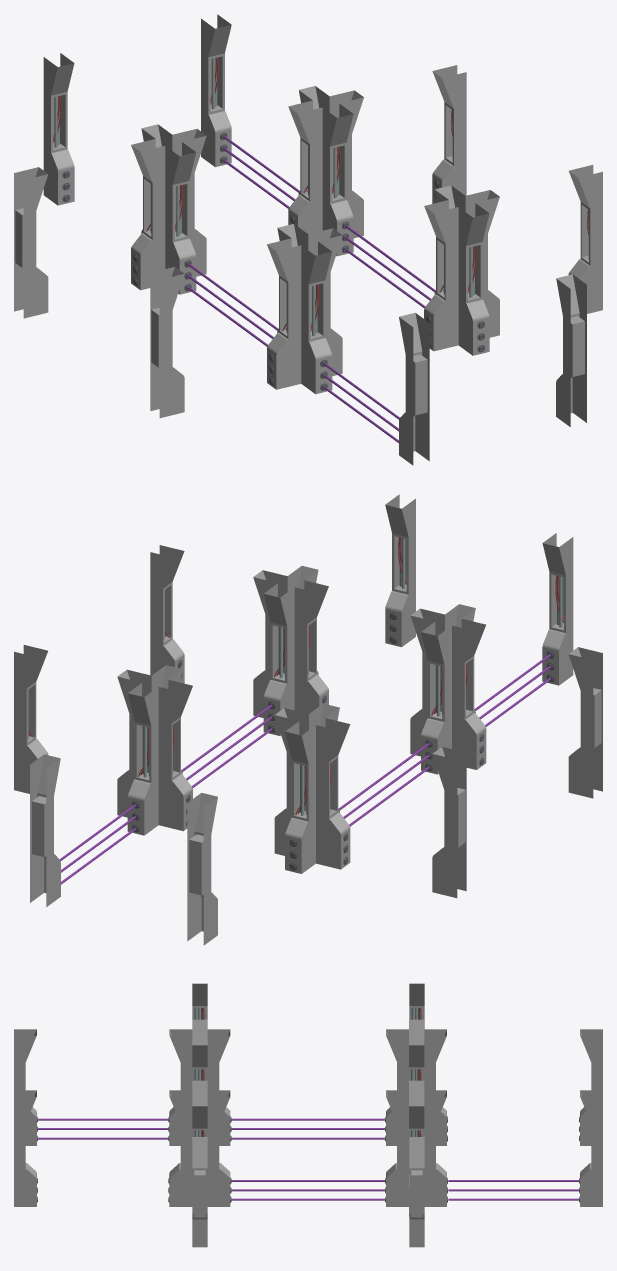
File: geo_sauleFences.fbx
The picture shows the model from 3 angles, top to bottom: view 1: azimuth 30°, elevation 25°; view 2: azimuth 150°, elevation 25°; view 3: azimuth 270°, elevation 25°; orthographic projection. The views are drawn at different scales.
Visible parts, largest first — view 1: geo_sauleFences; view 2: geo_sauleFences; view 3: geo_sauleFences.
Boxes of the visible parts, x1,y1,x2,y2 form: geo_sauleFences: (14, 14, 602, 465); geo_sauleFences: (14, 494, 602, 945); geo_sauleFences: (14, 983, 602, 1247).
Size of the model in its own units: 900 by 269 by 1300.
